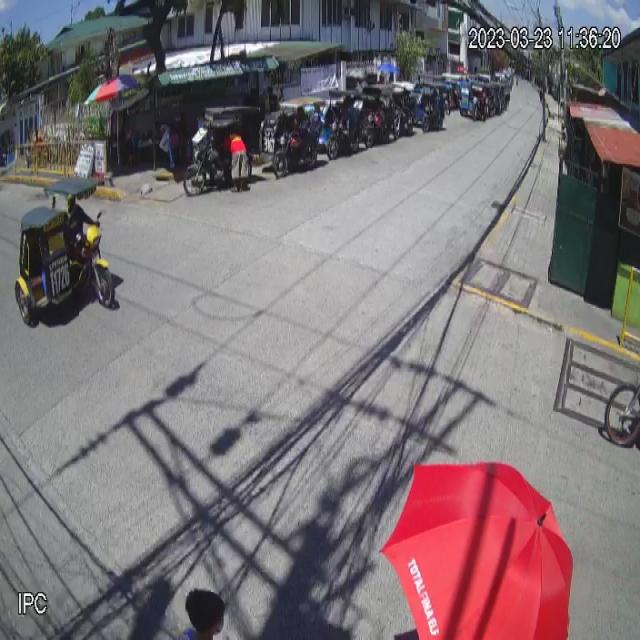Tricycle: (14, 177, 115, 326)
